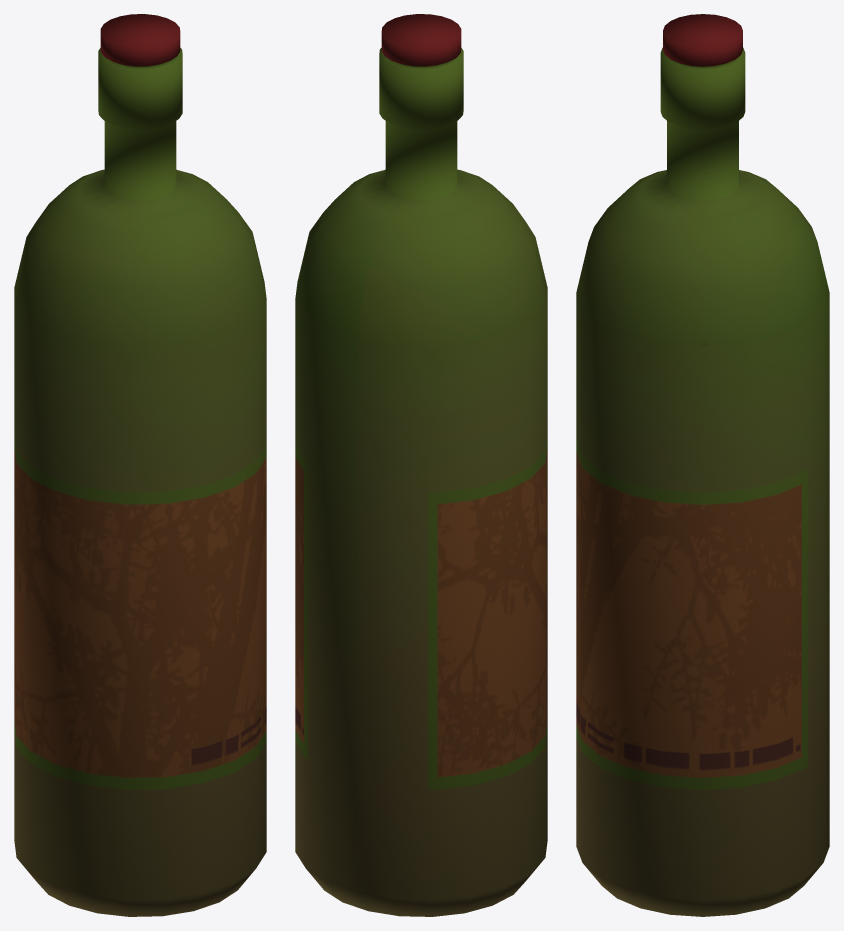
File: Wine_bottle_standard.fbx
3 renders of one model, left to right at view 1: azimuth 30°, elevation 25°; view 2: azimuth 150°, elevation 25°; view 3: azimuth 270°, elevation 25°, orthographic.
Visible parts, largest first — view 1: Wine Bottle.001; view 2: Wine Bottle.001; view 3: Wine Bottle.001.
Part boxes in pixels (x1=…): Wine Bottle.001: x1=14, y1=14, x2=266, y2=916; Wine Bottle.001: x1=295, y1=14, x2=547, y2=916; Wine Bottle.001: x1=576, y1=14, x2=829, y2=916.
Bounding box in the file's own units: 38 × 139 × 38.
